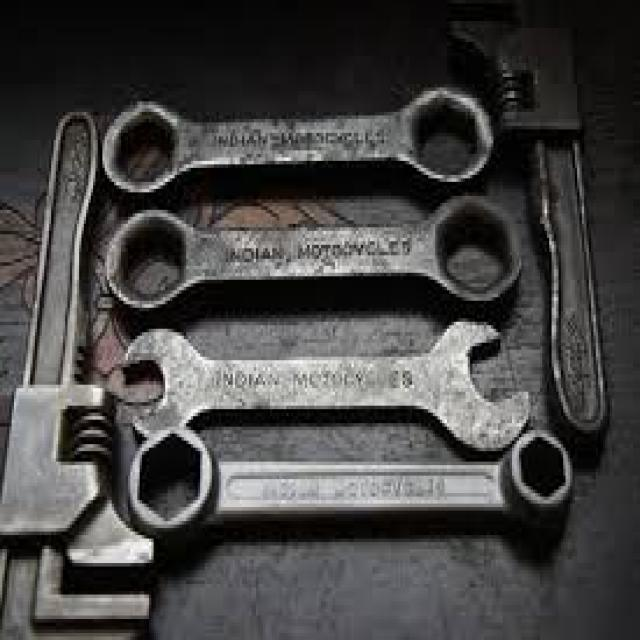wrench: (0, 112, 161, 640), (456, 0, 617, 444), (121, 318, 535, 462), (130, 416, 580, 547), (100, 197, 526, 324), (98, 84, 501, 200)
